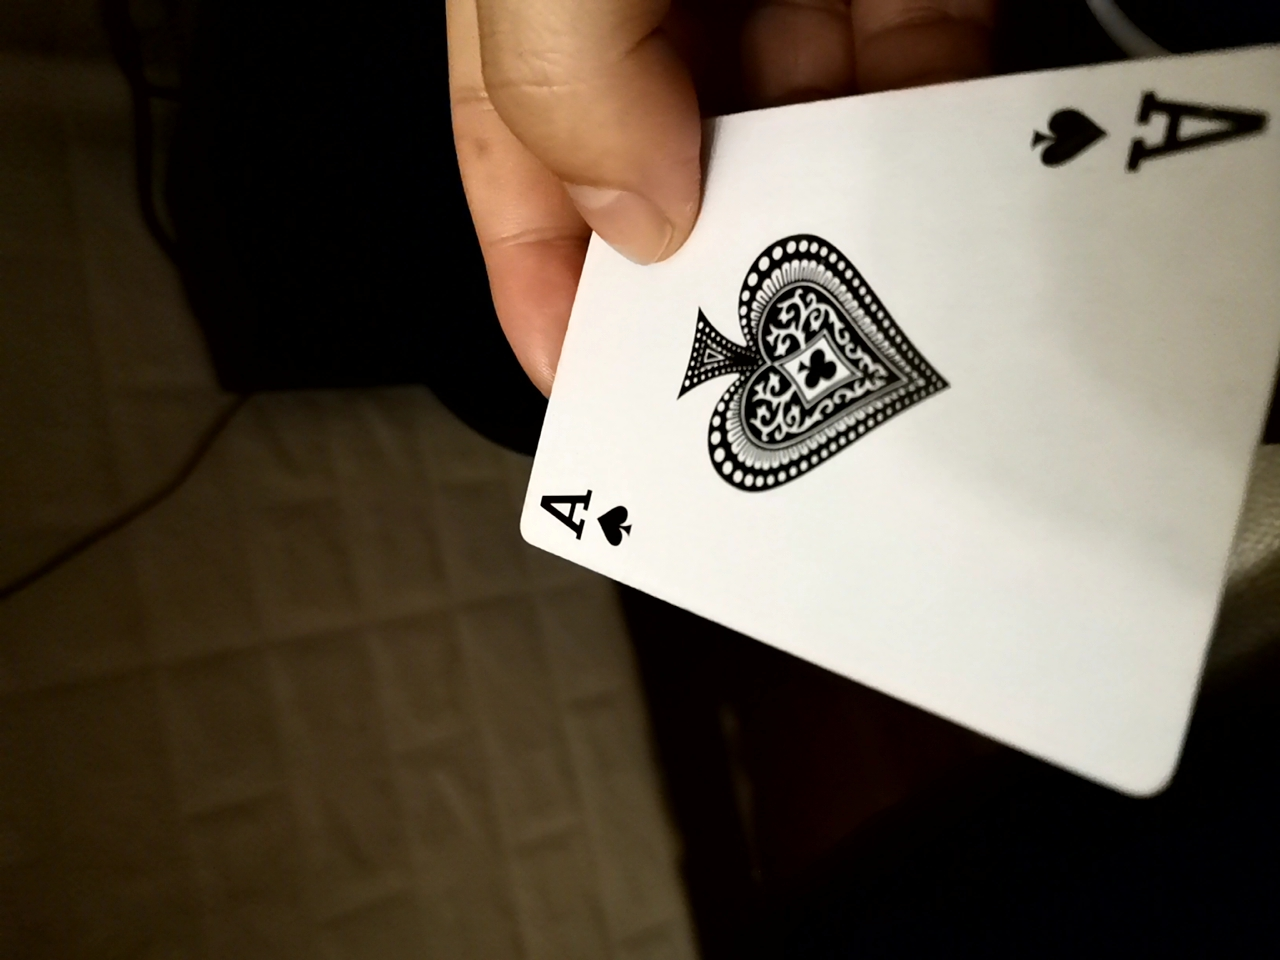ht a: (470, 61, 1259, 821)
